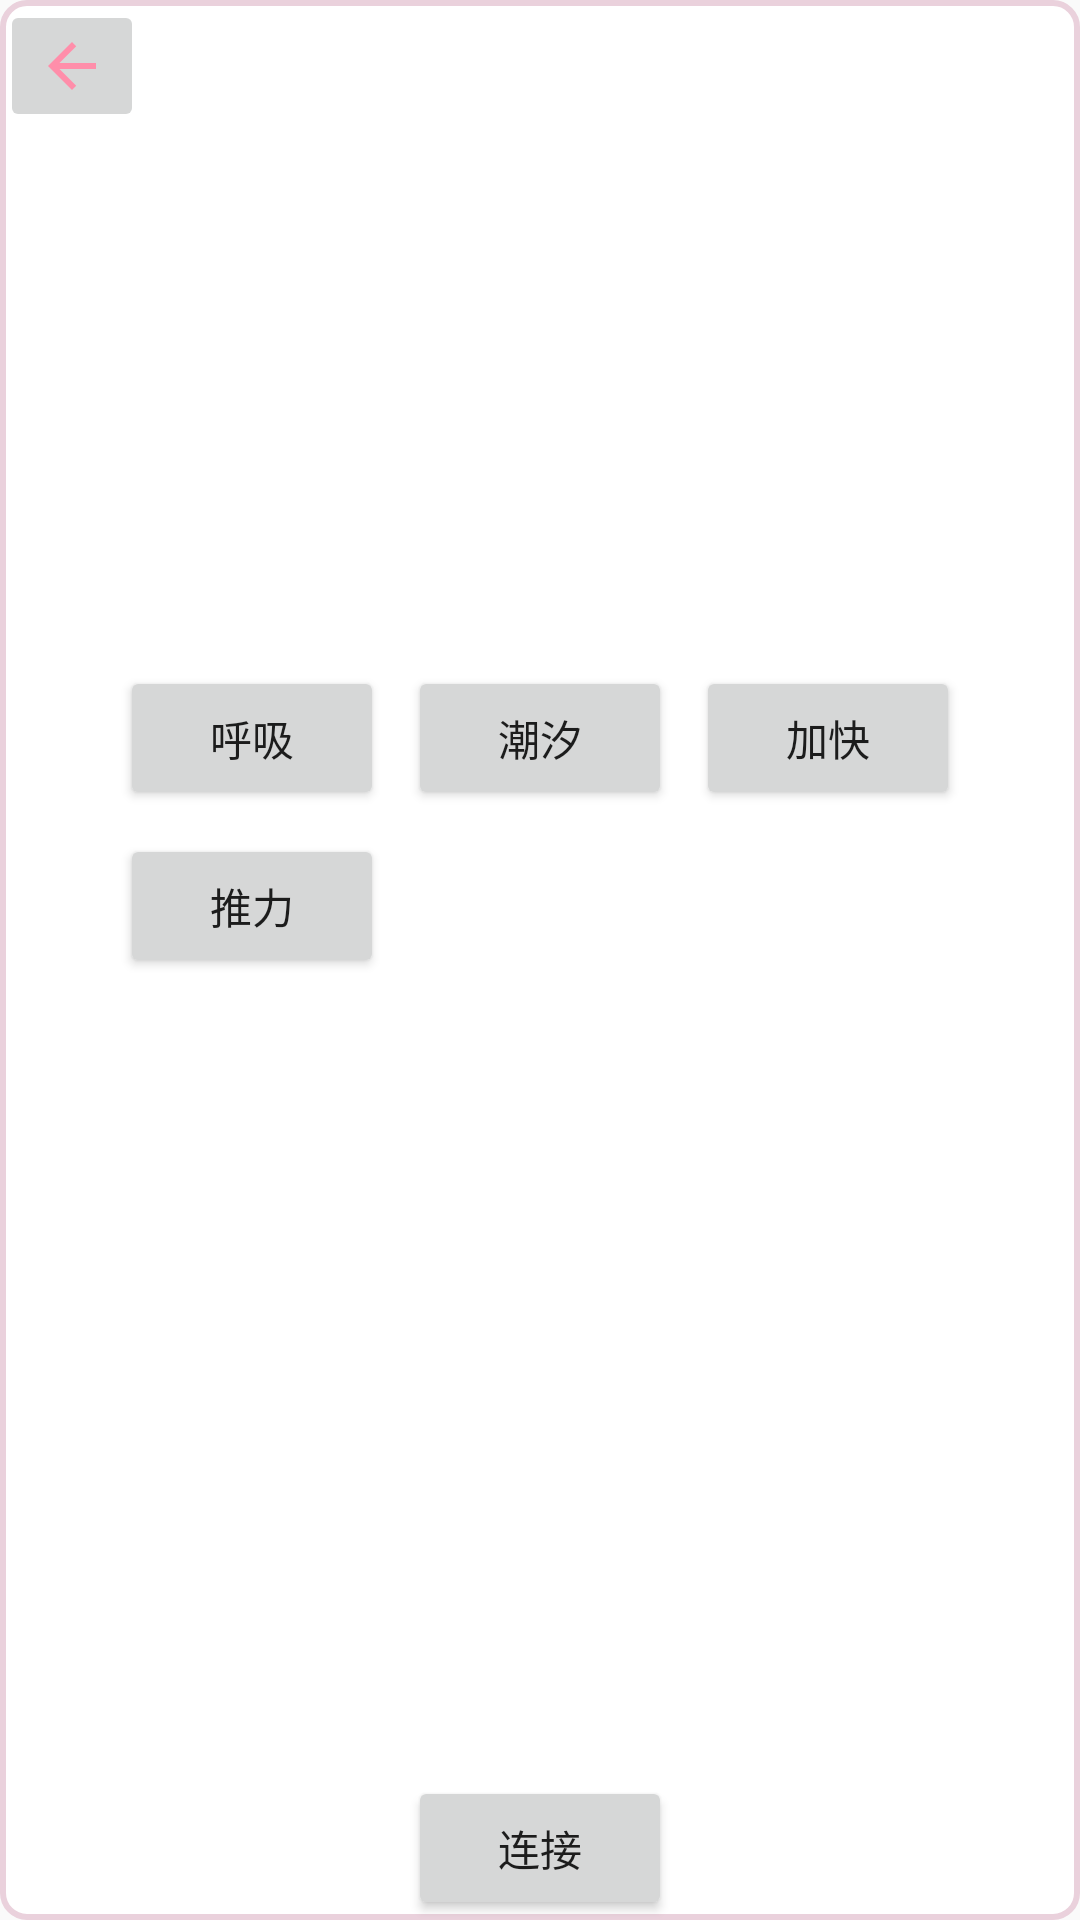

Screen size 1080 × 1920. Icon name, then its box in pixels as region(x1, y1, x2, y2):
arrow back: region(12, 18, 132, 114)
